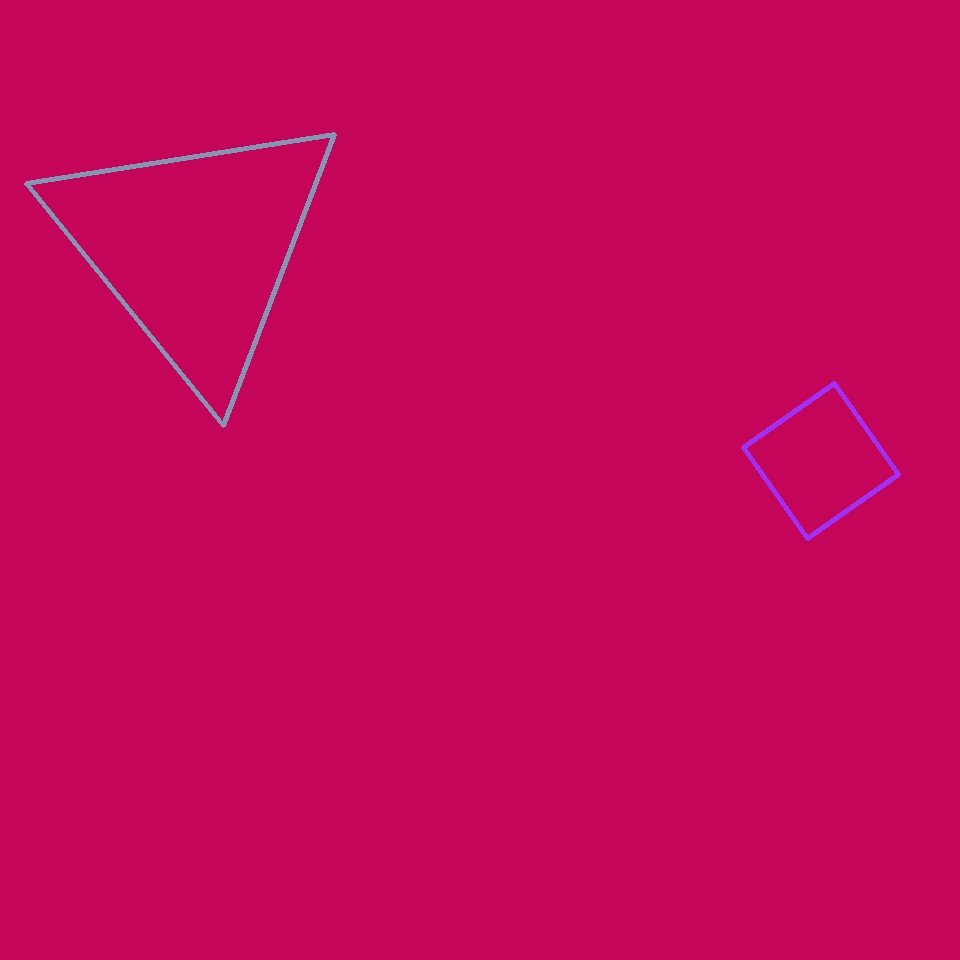circle: (41, 103, 349, 394)
square: (744, 384, 898, 538)
